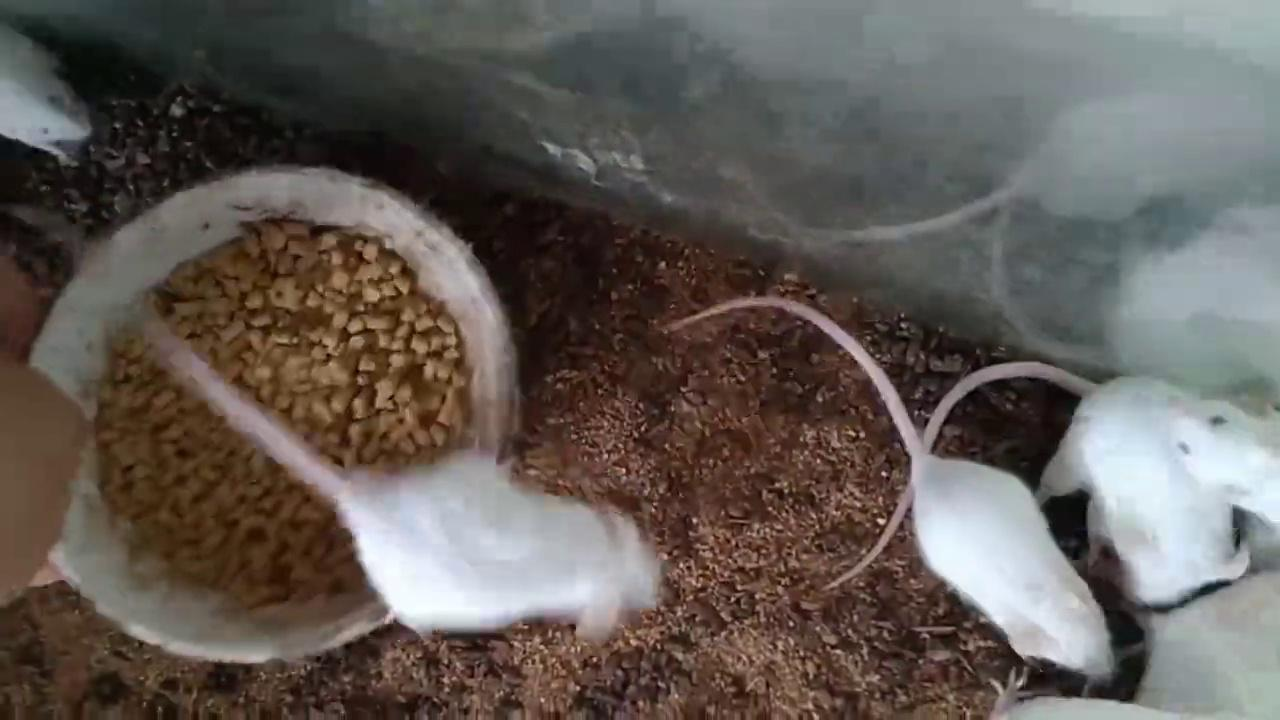rat: (127, 297, 664, 642), (666, 296, 1116, 676), (828, 360, 1250, 608), (1168, 401, 1280, 533), (0, 21, 94, 167)
